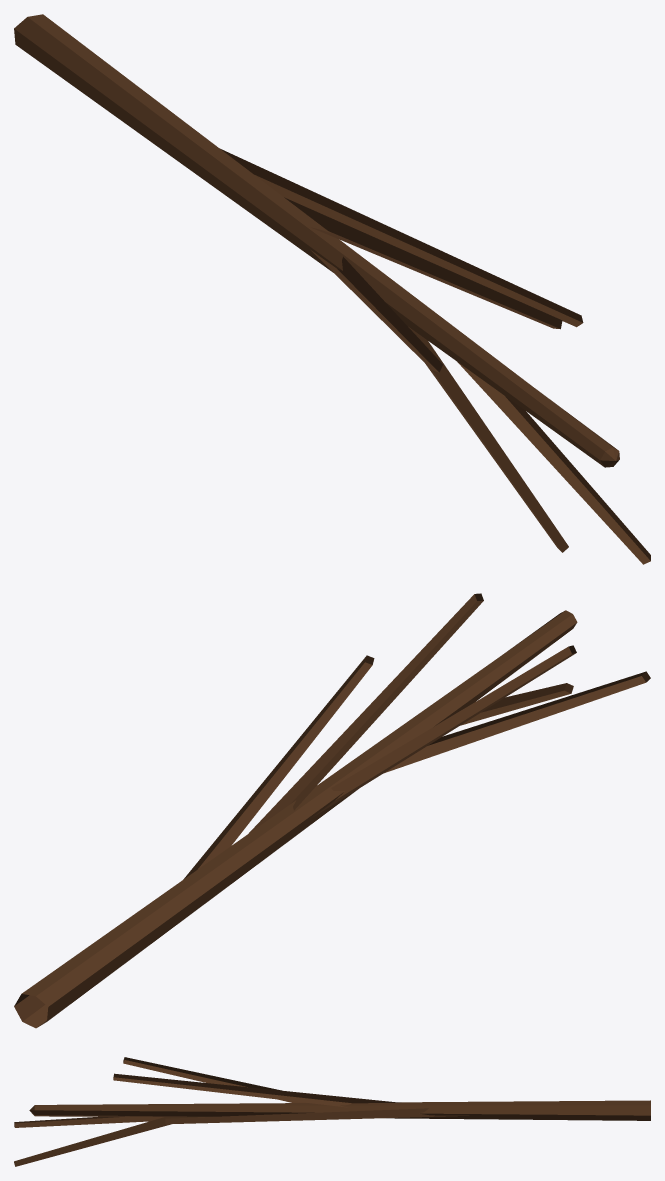
The model's file is dead.glb.
3 renders of one model, top to bottom at view 1: azimuth 30°, elevation 25°; view 2: azimuth 150°, elevation 25°; view 3: azimuth 270°, elevation 25°, orthographic. The views are drawn at different scales.
Parts seen in each view (by area): view 1: tree_09_dead; view 2: tree_09_dead; view 3: tree_09_dead.
Boxes of the visible parts, x1,y1,x2,y2 form: tree_09_dead: (14,14,650,564); tree_09_dead: (14,593,650,1028); tree_09_dead: (14,1057,650,1166).
Size of the model in its own units: 6.53 by 5.75 by 35.55.
